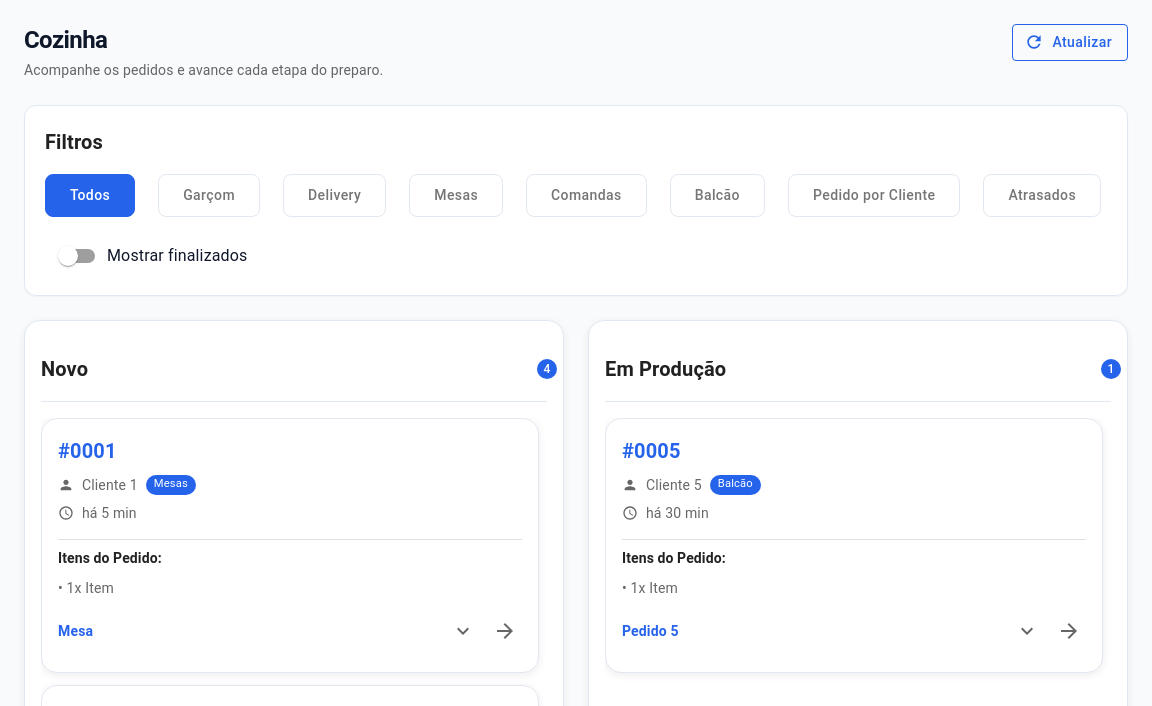
Test: Kitchen filter chips › seleciona Mesas e Comandas, volta para Todos e depois um canal
This screenshot has width=1152, height=706.
Check: the heading "#0001" is shown, box [58,435,117,467]
Click the button "Mesas".
click(456, 196)  # box [409,174,503,217]
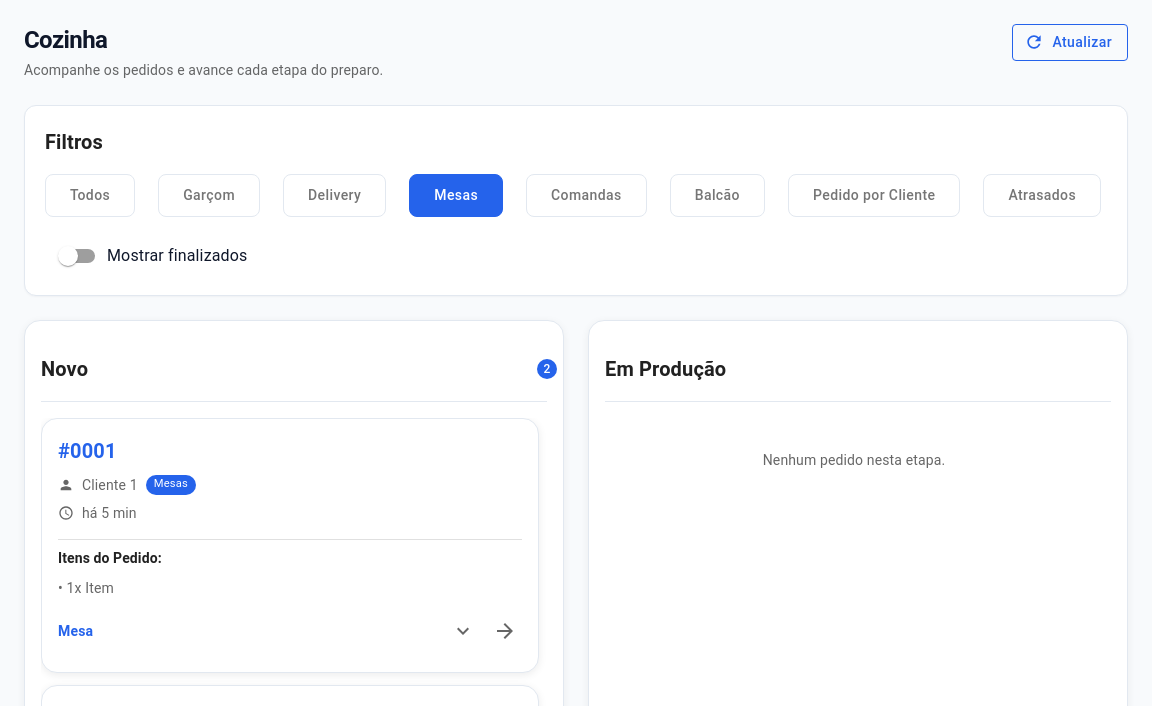
Check: the heading "#0001" is shown, box [58,435,117,467]
Check: the button "Mesas" is pressed, box [409,174,503,217]
Check: the button "Todos" is not pressed, box [45,174,135,217]
Click the button "Comandas".
click(586, 196)  # box [526,174,647,217]
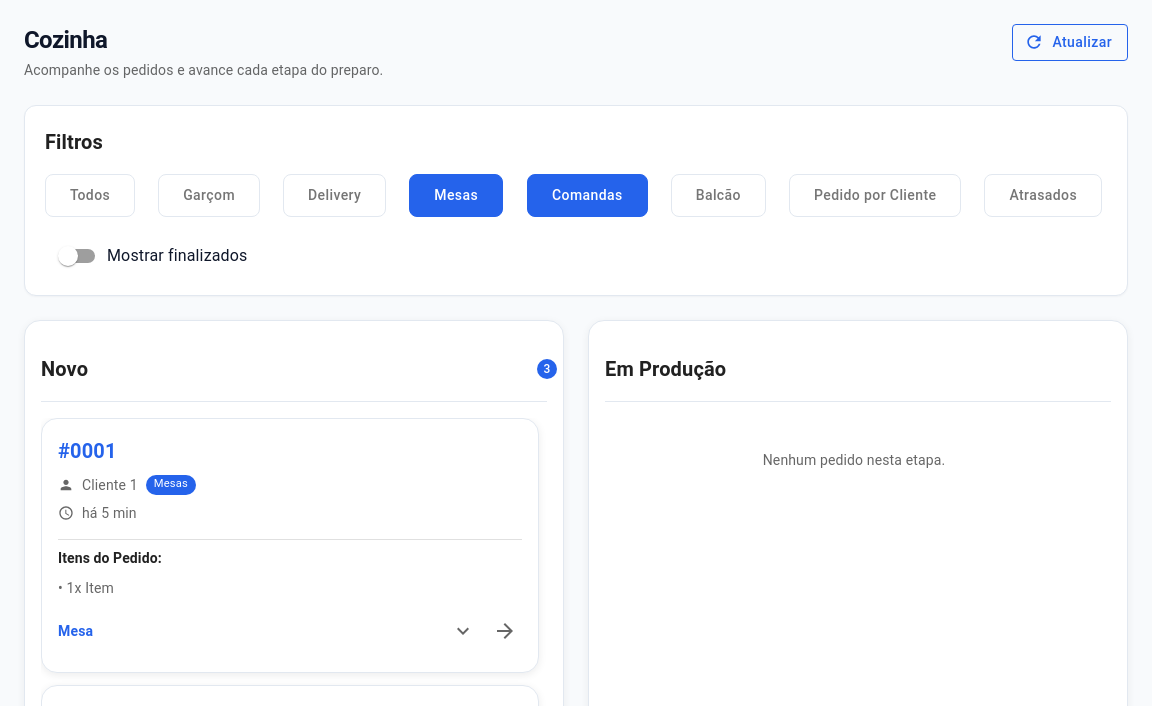
Check: the text "#0003" is not shown
Check: the button "Mesas" is pressed, box [409,174,503,217]
Check: the button "Comandas" is pressed, box [527,174,648,217]
Click the button "Todos".
click(90, 196)  # box [45,174,135,217]
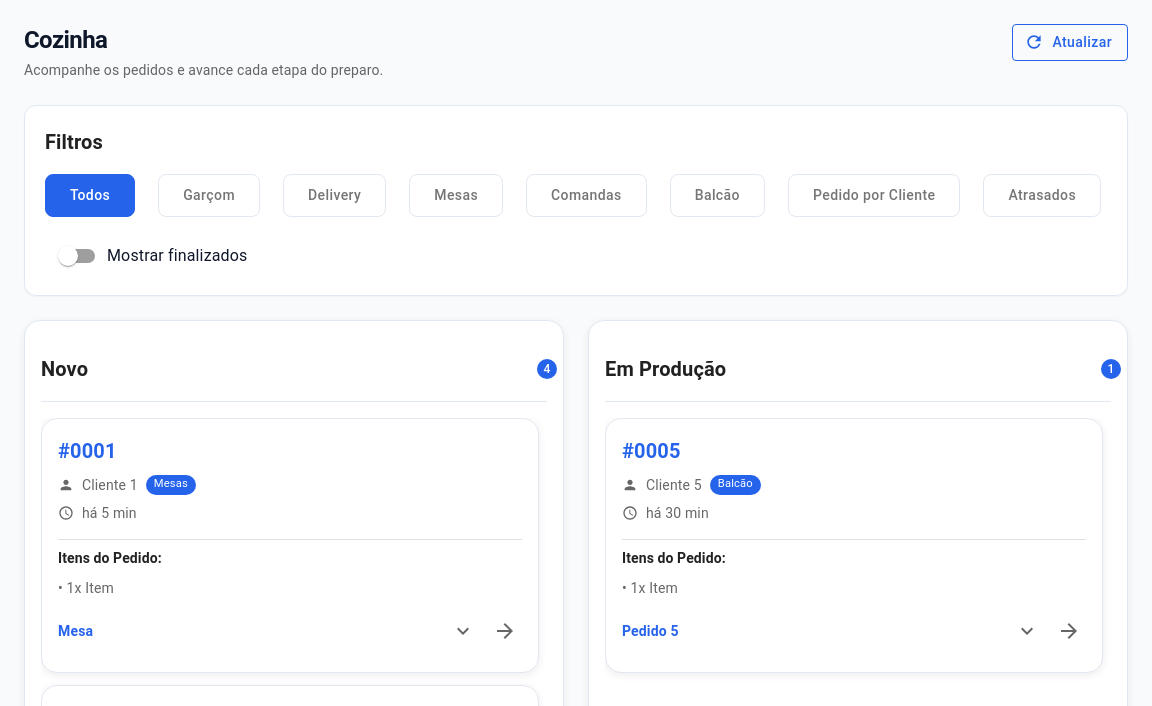
Check: the heading "#0005" is shown, box [622,435,681,467]
Click the button "Delivery".
click(335, 196)  # box [283,174,386,217]
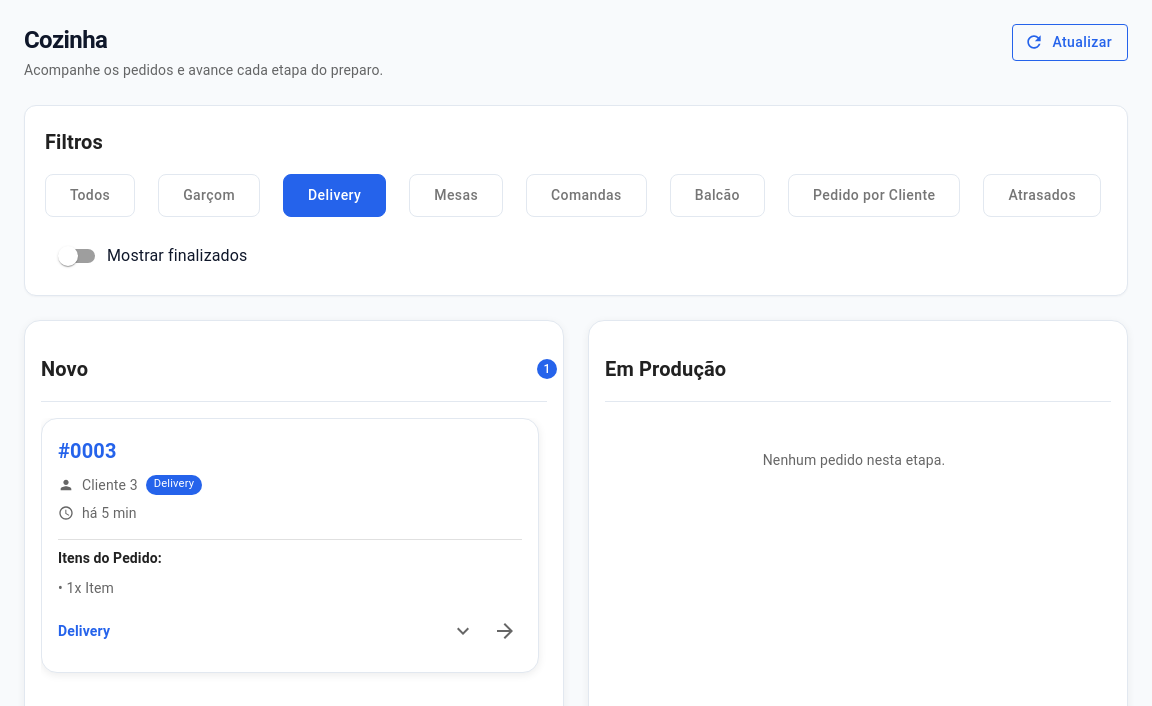
Check: the heading "#0003" is shown, box [58,435,117,467]
Check: the heading "#0001" is gone
Click the button "Delivery".
click(335, 196)  # box [283,174,386,217]
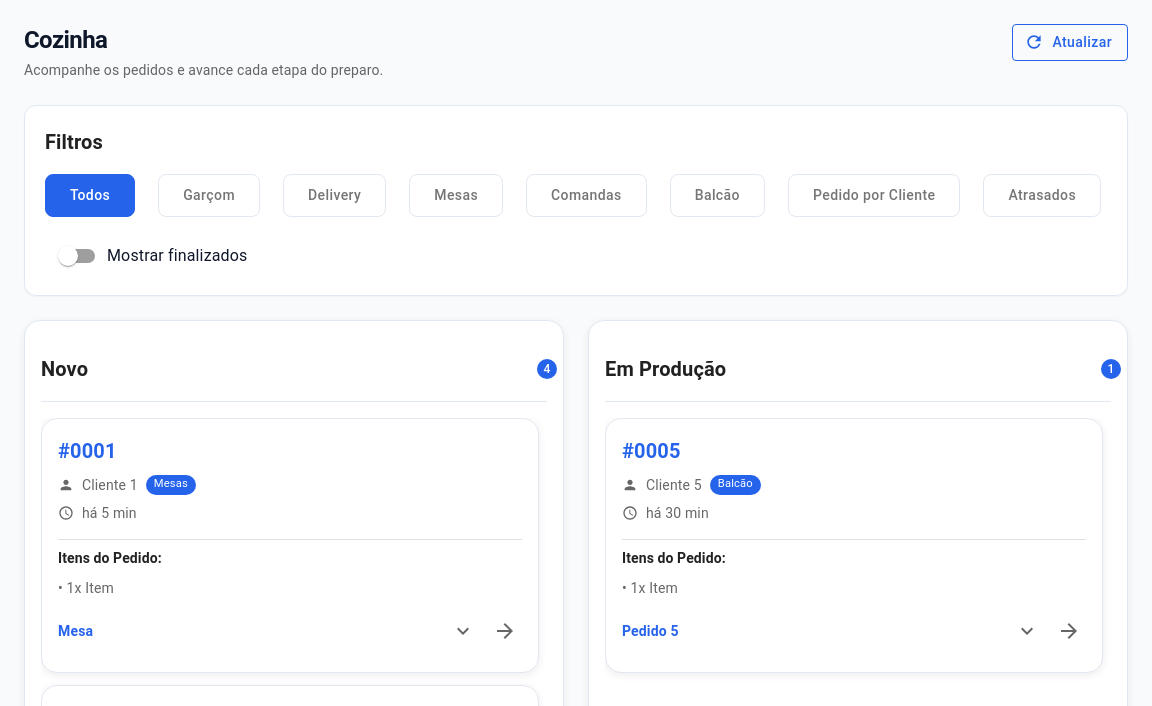
Check: the checkbox labelled "Mostrar finalizados" is not checked, box [58,246,248,266]
Check: the heading "#0001" is shown, box [58,435,117,467]
